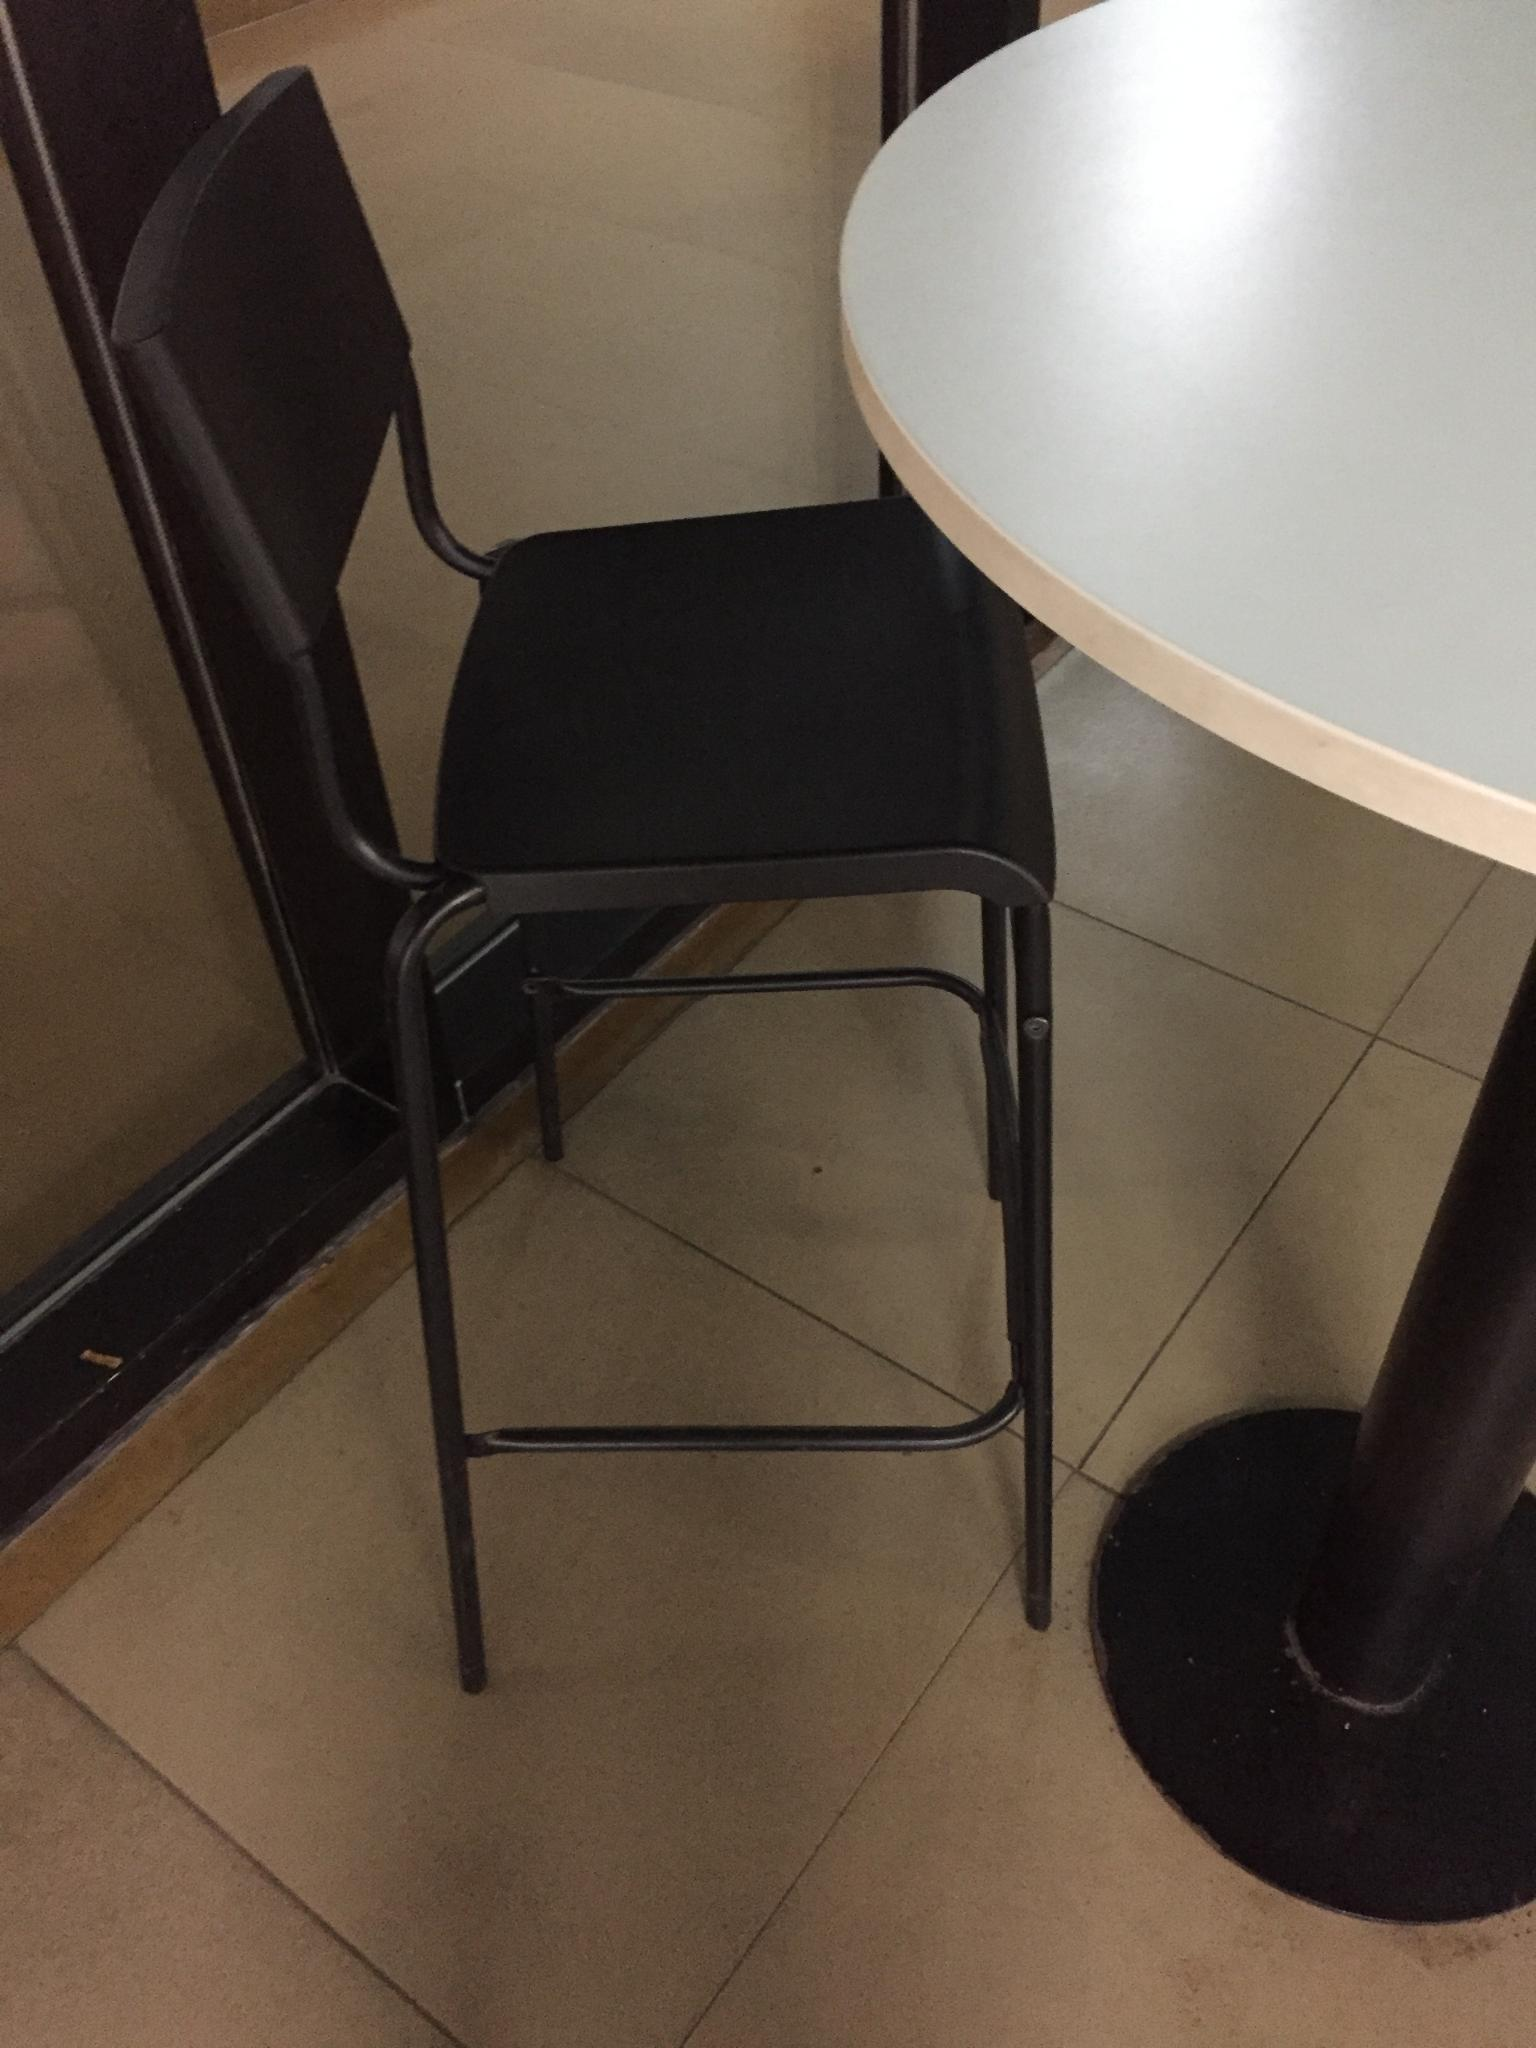chair: (106, 63, 1060, 1695)
